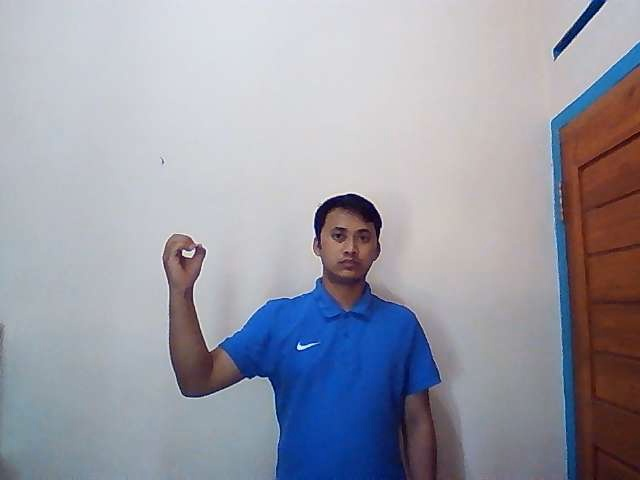O: (161, 232, 207, 286)
